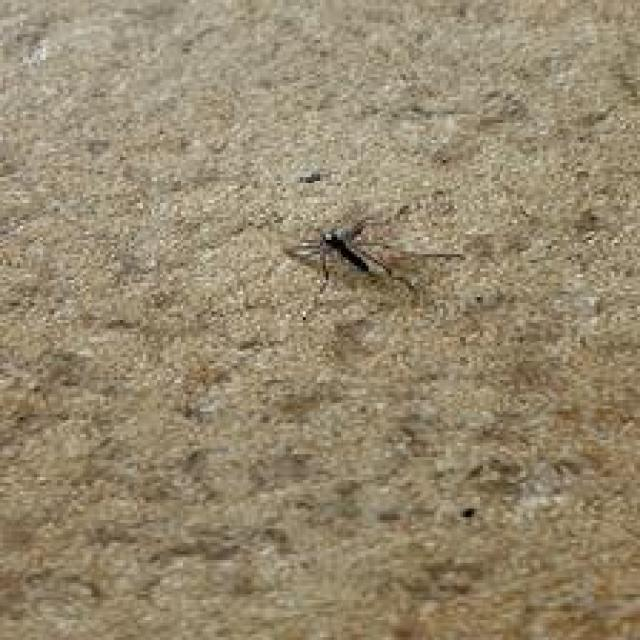Aedes albopictus: (282, 206, 464, 300)
